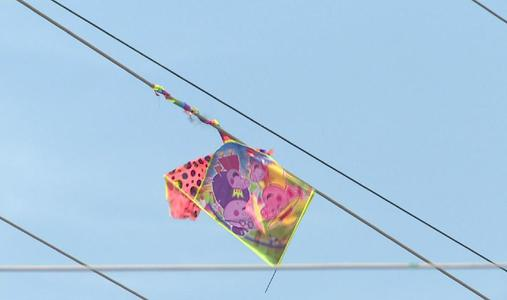kite: (148, 80, 320, 266)
